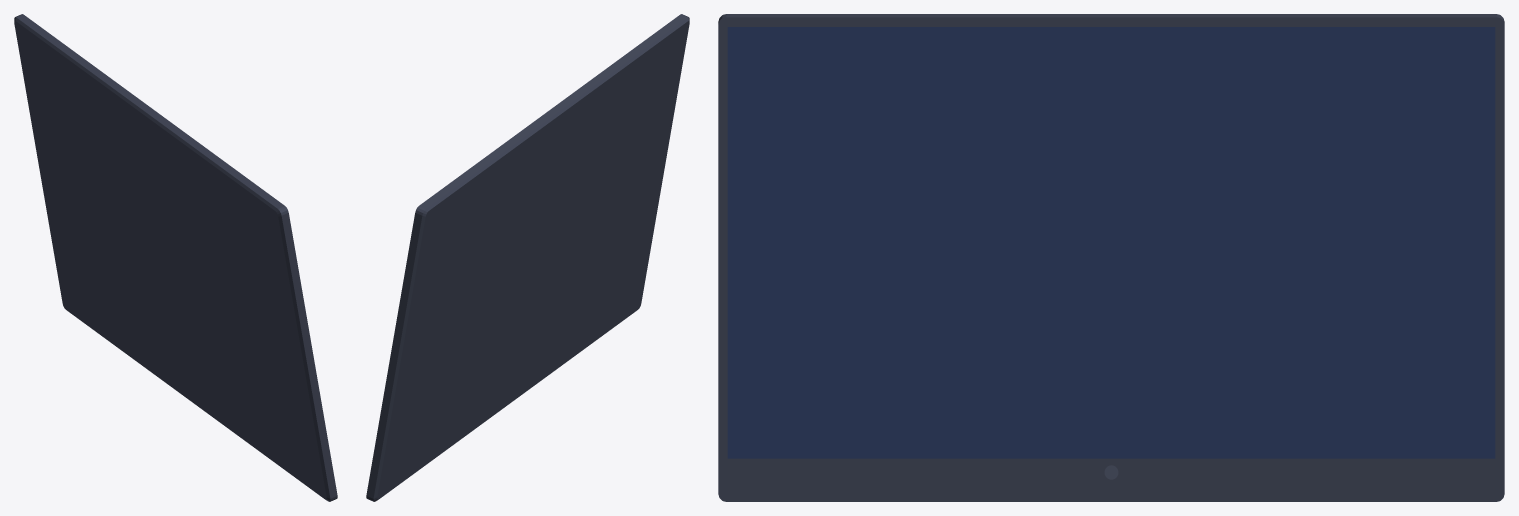
The model's file is laptop-lid.glb.
3 views of the same model, side by side, from view 1: azimuth 30°, elevation 25°; view 2: azimuth 150°, elevation 25°; view 3: azimuth 270°, elevation 25° (orthographic). The views are drawn at different scales.
Parts seen in each view (by area): view 1: Object_57; view 2: Object_57; view 3: Object_58, Object_57.
Part boxes in pixels (x1,y1,x2,y2): Object_57: (14, 14, 337, 501); Object_57: (366, 14, 689, 501); Object_58: (727, 27, 1495, 458); Object_57: (718, 14, 1504, 501).
Size of the model in its own units: 0.5904 by 2.91 by 4.61.
